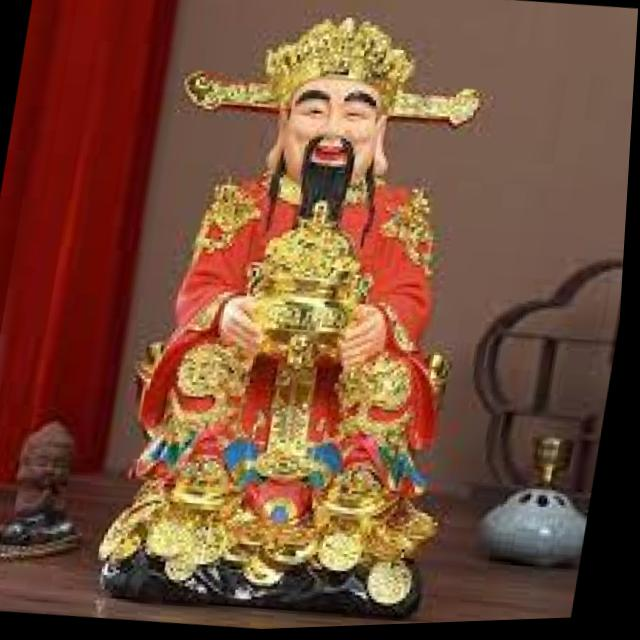Cai shen: (122, 0, 496, 504)
